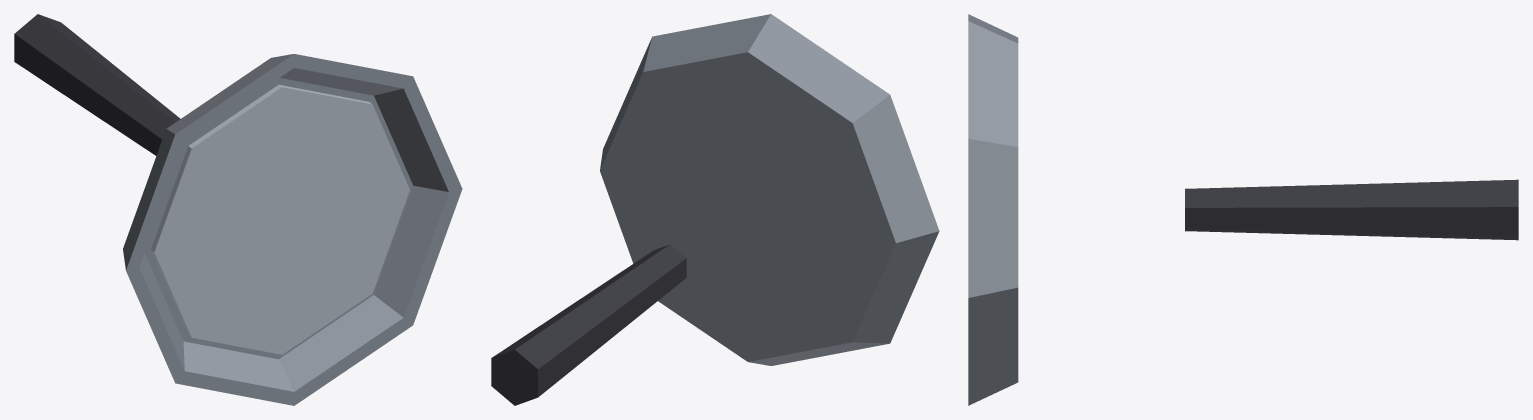
File: FryingPan.fbx
3 views of the same model, side by side, from view 1: azimuth 30°, elevation 25°; view 2: azimuth 150°, elevation 25°; view 3: azimuth 270°, elevation 25° (orthographic). The views are drawn at different scales.
Visible parts, largest first — view 1: FryingPan; view 2: FryingPan; view 3: FryingPan.
Boxes of the visible parts, <box> form: FryingPan: <box>14,14,462,405</box>; FryingPan: <box>491,14,939,405</box>; FryingPan: <box>968,14,1518,405</box>.
Bounding box in the file's own units: 2.5 × 2.5 × 3.3.
Materials: 1 (1 with a texture image).
